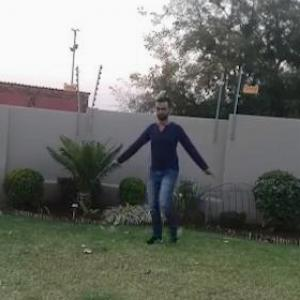land: (113, 103, 218, 240)
